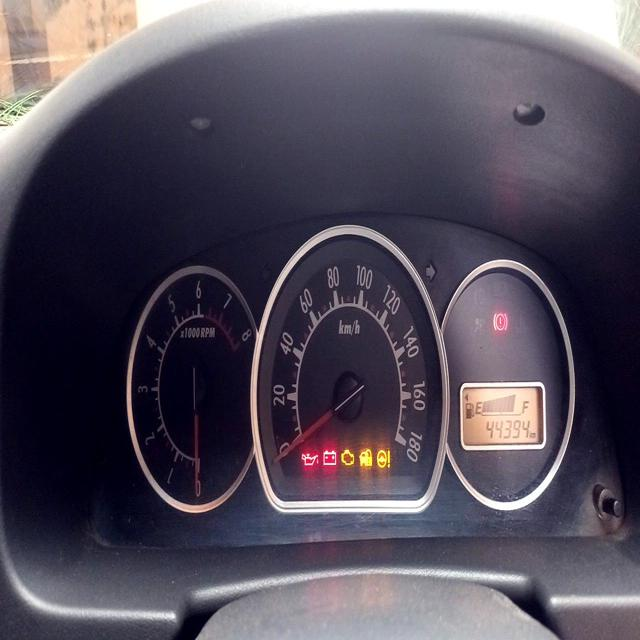odometer: (484, 418, 531, 440)
